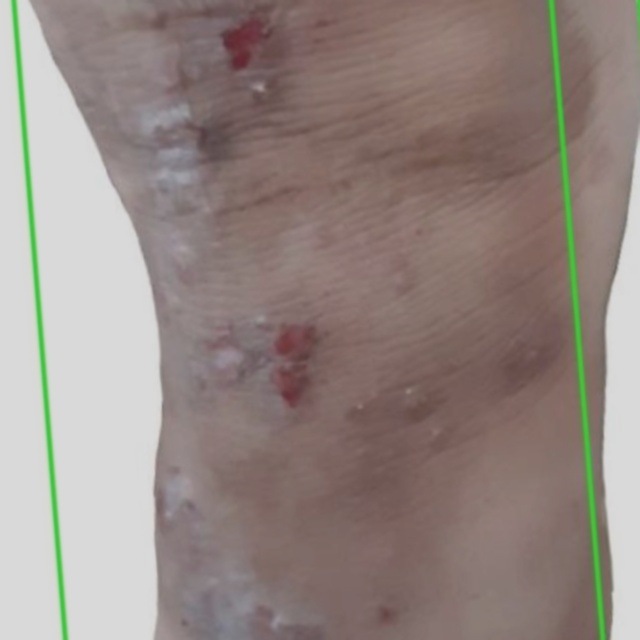Eczema: (13, 0, 639, 639)
